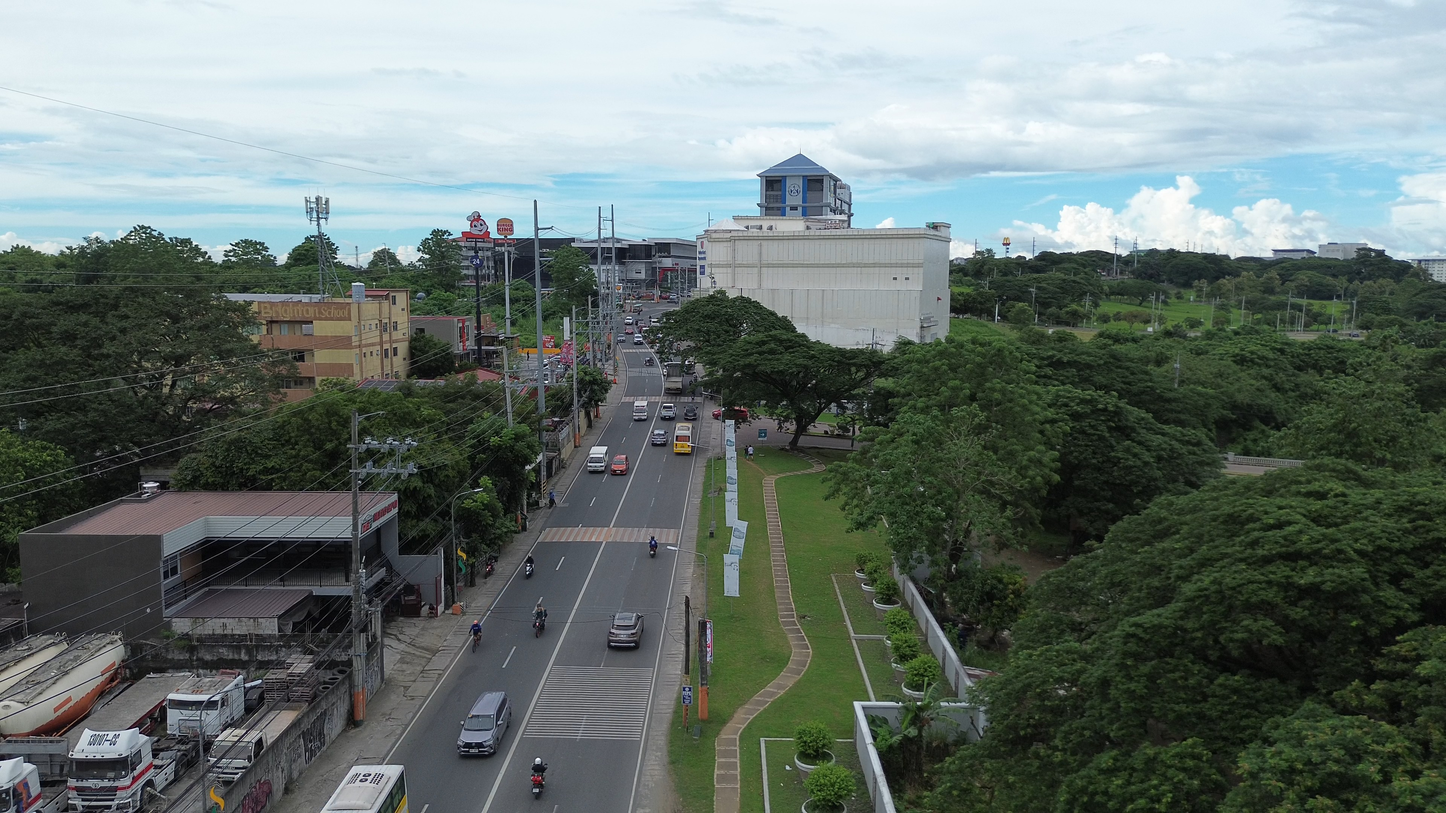bus: (322, 765, 407, 813), (673, 423, 693, 454)
car: (712, 408, 749, 422), (683, 404, 697, 420), (633, 335, 644, 345), (624, 327, 635, 335)
motorcycle: (530, 773, 545, 798), (483, 556, 496, 579), (533, 618, 545, 637), (525, 562, 534, 578), (650, 540, 657, 557)
truck: (0, 757, 68, 813)
vehicle: (0, 633, 124, 736), (69, 728, 196, 813), (207, 703, 304, 783), (167, 670, 244, 738), (0, 633, 67, 694), (0, 758, 69, 813), (457, 691, 511, 755), (607, 612, 643, 647), (664, 361, 682, 394), (712, 406, 749, 422), (586, 446, 608, 472), (529, 773, 545, 798), (610, 454, 629, 475), (633, 400, 649, 420), (658, 403, 676, 420), (650, 428, 667, 444), (532, 617, 545, 637), (633, 335, 644, 345), (667, 294, 679, 303), (644, 355, 654, 365), (624, 316, 634, 325), (632, 304, 643, 312)
